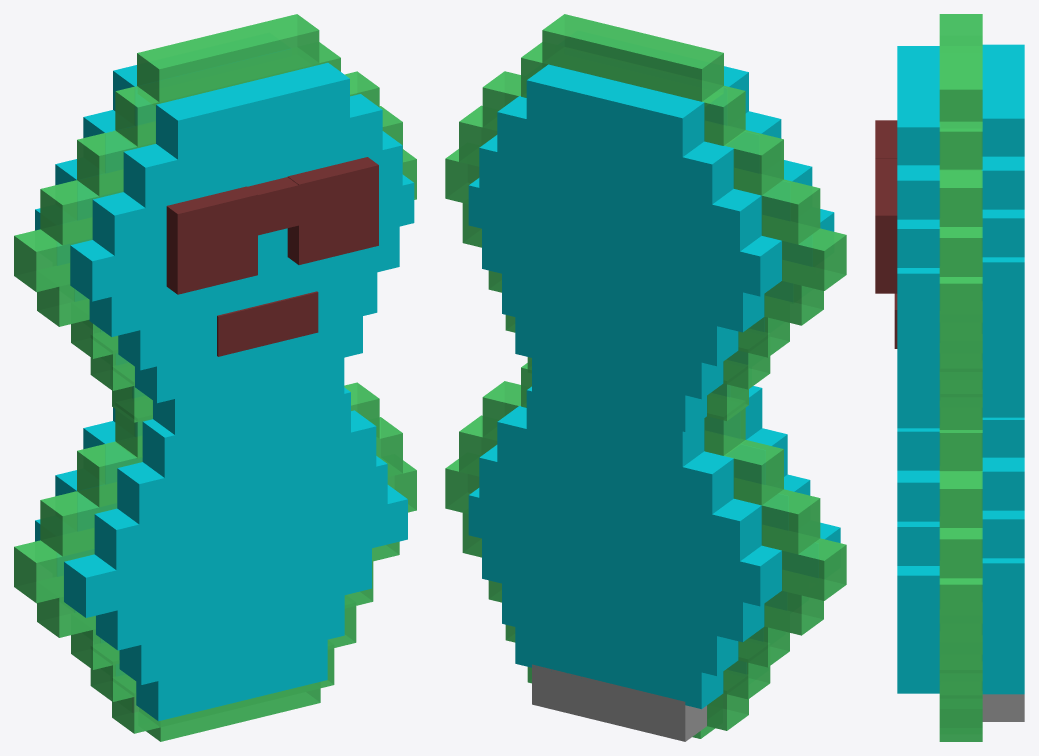
The model's file is Germ.fbx.
3 renders of one model, left to right at view 1: azimuth 30°, elevation 25°; view 2: azimuth 150°, elevation 25°; view 3: azimuth 270°, elevation 25°, orthographic. The views are drawn at different scales.
Parts seen in each view (by area): view 1: polySurface3, polySurface2, polySurface1; view 2: polySurface3, polySurface2; view 3: polySurface3, polySurface2, polySurface1.
Part boxes in pixels (x1,y1,x2,y2): polySurface3: (35,62,414,721); polySurface2: (14,14,416,741); polySurface1: (166,157,378,356); polySurface3: (468,64,840,741); polySurface2: (445,14,846,738); polySurface3: (897,44,1024,721); polySurface2: (939,14,982,741); polySurface1: (875,120,897,348).
Size of the model in its own units: 9.88 by 16.7 by 3.46.
